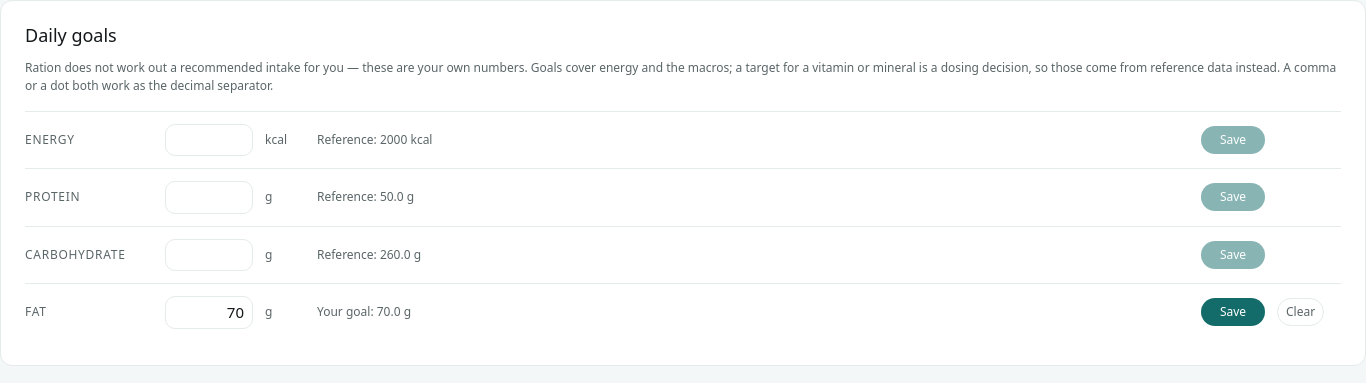
GoalForm › clears a goal and empties its field
Click the button with class "ghost" at (1301, 312), box 1277,298 -> 1324,326
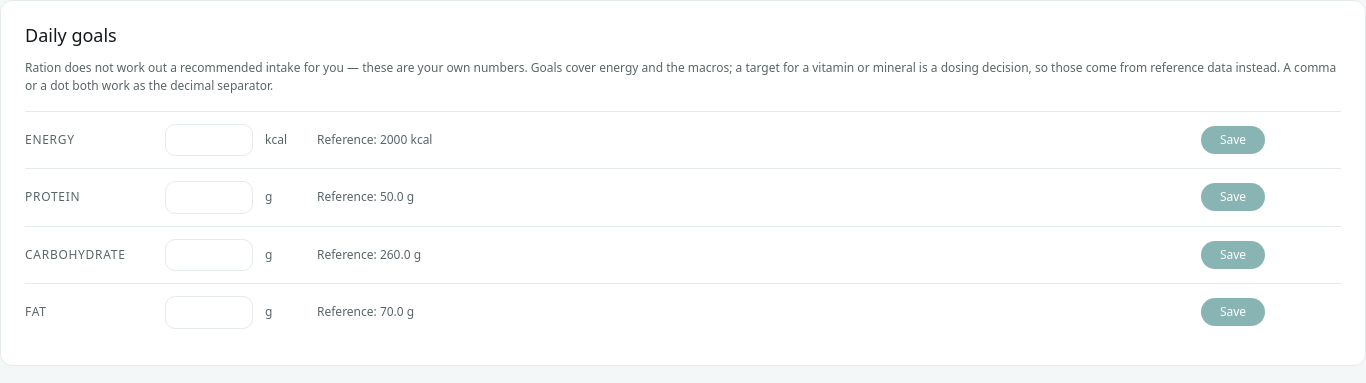
Expected: the element showing "Fat g Reference: 70.0 g Save" is shown, 25,283 -> 1341,341
Expected: the text "Your goal" is gone
